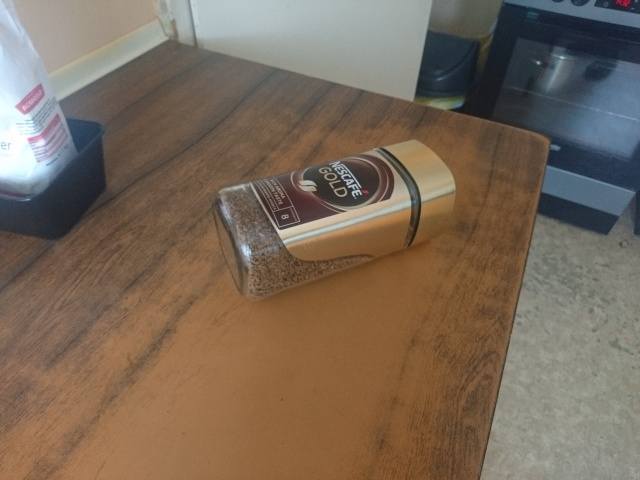Nescafe Gold 225g: (210, 138, 460, 304)
